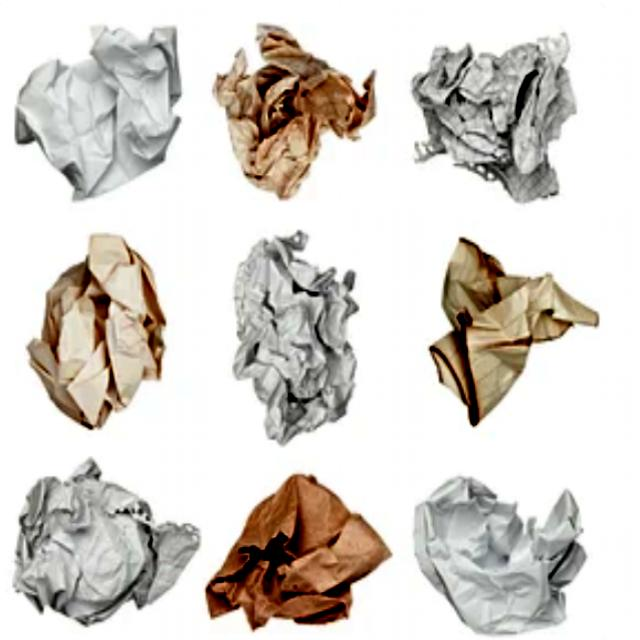Paper: (15, 18, 188, 200), (25, 226, 169, 429), (411, 474, 590, 636)
Trash: (422, 233, 602, 416), (209, 10, 388, 193), (13, 459, 198, 628), (227, 229, 372, 442), (404, 38, 581, 202), (206, 474, 387, 634)
